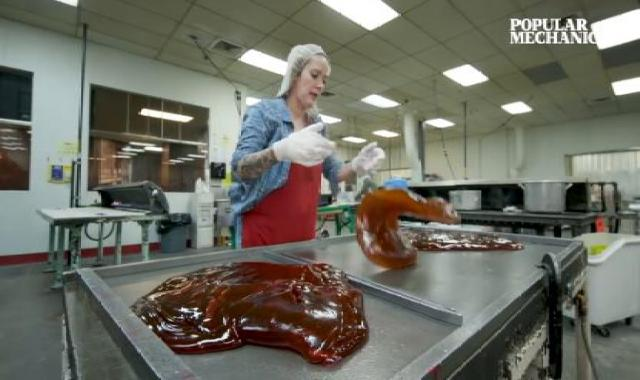hairnet: (270, 39, 330, 96)
